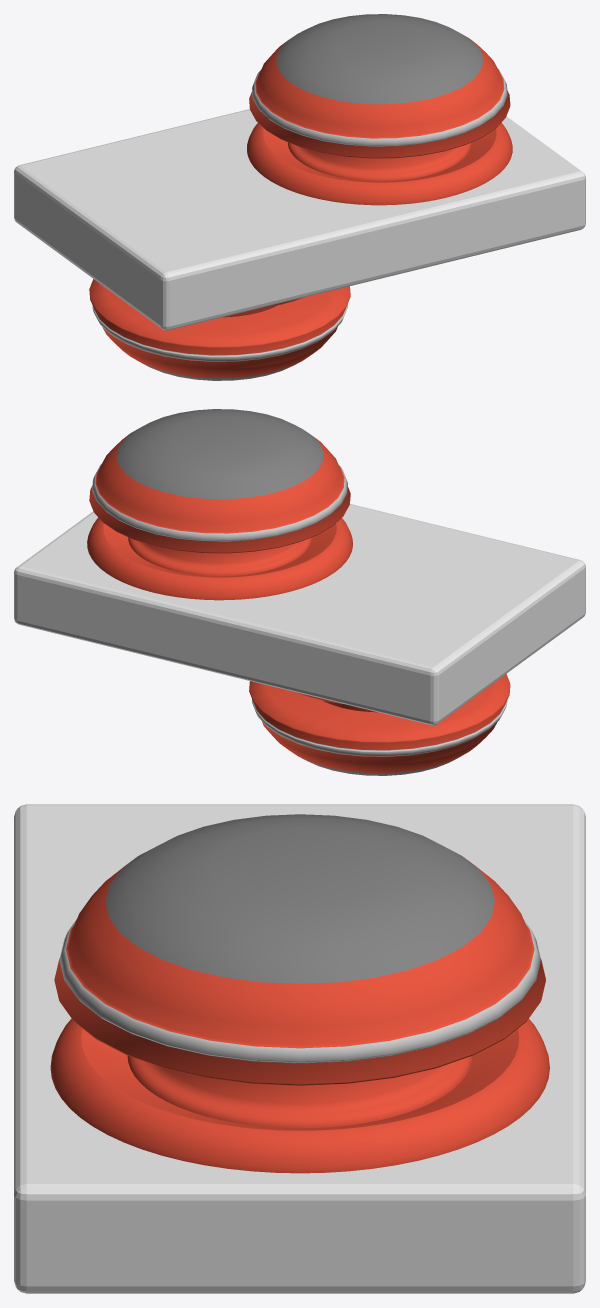
The model's file is BaseBottonefbx.fbx.
The picture shows the model from 3 angles, top to bottom: view 1: azimuth 30°, elevation 25°; view 2: azimuth 150°, elevation 25°; view 3: azimuth 270°, elevation 25°; orthographic projection. The views are drawn at different scales.
Visible parts, largest first — view 1: BasePulsanti, ButtonEndTurn, ButtonExecute, ButtonBase_EndTurn, ButtonBase.003; view 2: BasePulsanti, ButtonEndTurn, ButtonExecute, ButtonBase_EndTurn, ButtonBase.003; view 3: BasePulsanti, ButtonEndTurn, ButtonBase_EndTurn, ButtonBase.003.
Boxes of the visible parts, x1,y1,x2,y2 form: BasePulsanti: (14, 109, 585, 330); ButtonEndTurn: (249, 14, 510, 158); ButtonExecute: (89, 279, 350, 380); ButtonBase_EndTurn: (247, 123, 512, 205); ButtonBase.003: (288, 142, 471, 181); BasePulsanti: (14, 504, 585, 725); ButtonEndTurn: (89, 409, 350, 553); ButtonExecute: (249, 674, 510, 775); ButtonBase_EndTurn: (87, 517, 352, 600); ButtonBase.003: (128, 537, 311, 576); BasePulsanti: (14, 804, 585, 1293); ButtonEndTurn: (54, 814, 545, 1085); ButtonBase_EndTurn: (50, 1018, 549, 1173); ButtonBase.003: (127, 1055, 472, 1128).
Size of the model in its own units: 73.08 by 44.88 by 45.41.
